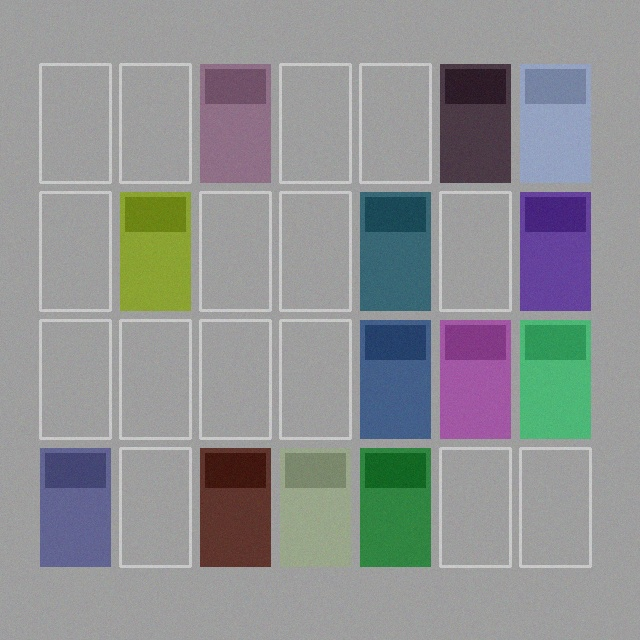space-empty: (40, 64, 110, 182), (120, 64, 190, 182), (280, 64, 350, 182), (360, 64, 430, 182), (40, 192, 110, 310), (200, 192, 270, 310), (280, 192, 350, 310), (440, 192, 510, 310), (40, 320, 110, 438), (120, 320, 190, 438), (200, 320, 270, 438), (280, 320, 350, 438), (120, 448, 190, 566), (440, 448, 510, 566), (520, 448, 590, 566)
space-occupied: (200, 64, 270, 182), (440, 64, 510, 182), (520, 64, 590, 182), (120, 192, 190, 310), (360, 192, 430, 310), (520, 192, 590, 310), (360, 320, 430, 438), (440, 320, 510, 438), (520, 320, 590, 438), (40, 448, 110, 566), (200, 448, 270, 566), (280, 448, 350, 566), (360, 448, 430, 566)
